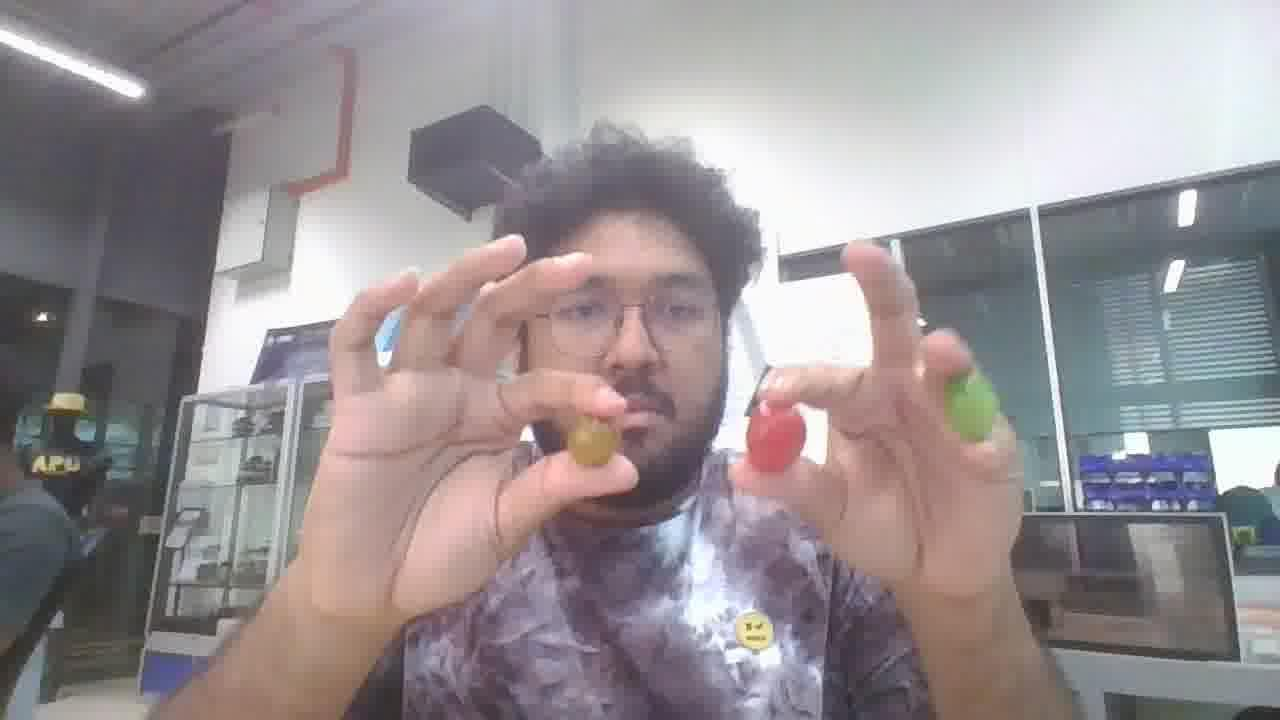green_cherry_tomato: (945, 370, 998, 441)
red_cherry_tomato: (746, 404, 806, 473)
yellow_cherry_tomato: (566, 416, 620, 465)
